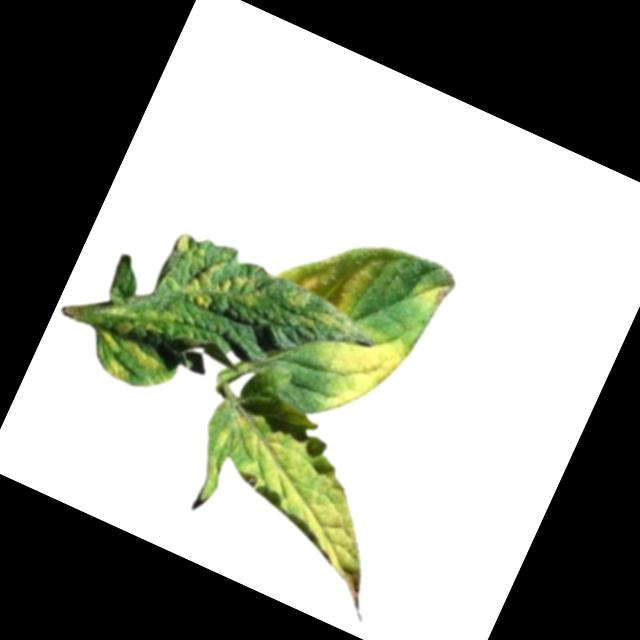Leaf_Mold: (183, 384, 408, 581), (293, 308, 414, 435), (270, 206, 390, 315), (182, 252, 268, 327), (85, 325, 163, 393), (297, 301, 354, 345), (410, 267, 454, 310), (283, 284, 311, 313), (170, 227, 196, 258)
